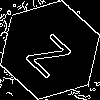Z: (25, 25, 80, 79)
